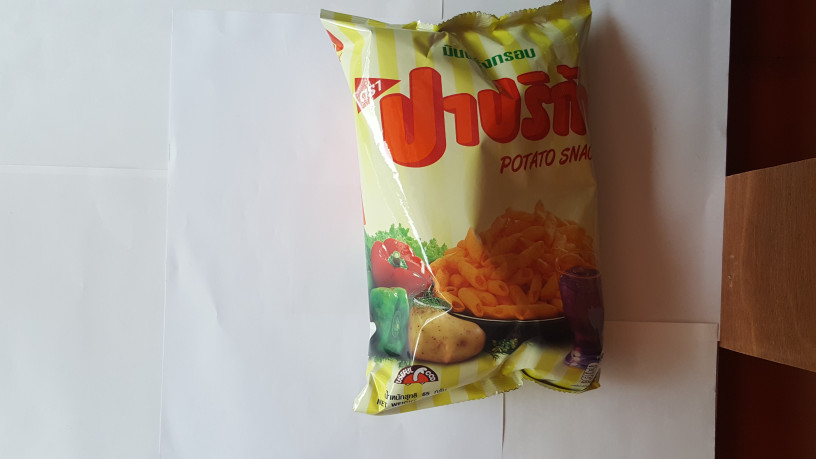paprika: (308, 1, 642, 429)
